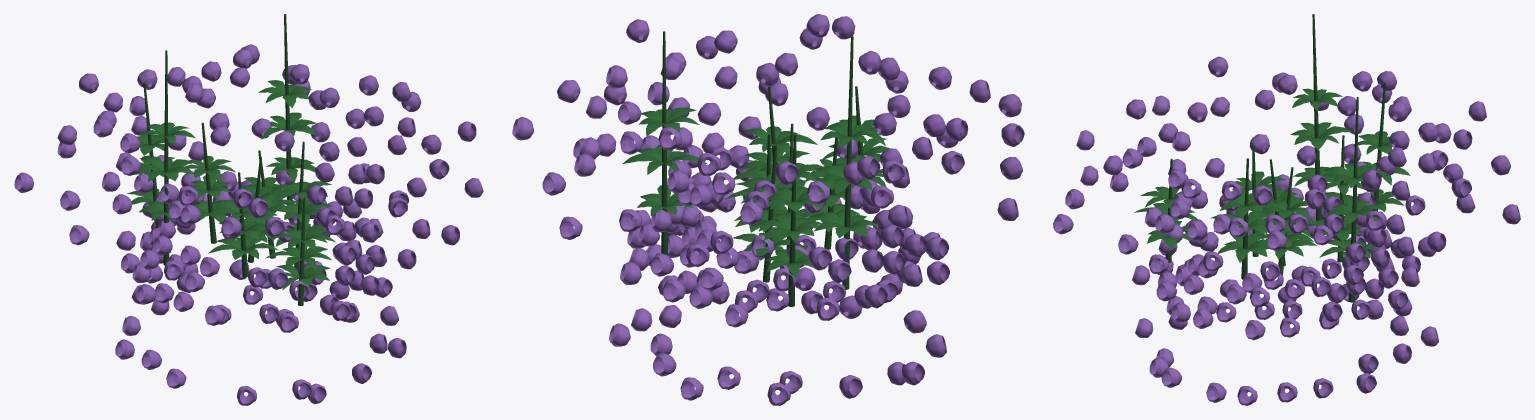
File: detail_lupine.glb
3 views of the same model, side by side, from view 1: azimuth 30°, elevation 25°; view 2: azimuth 150°, elevation 25°; view 3: azimuth 270°, elevation 25° (orthographic). The views are drawn at different scales.
Parts seen in each view (by area): view 1: LupinePalmateLeaves, Cone.003, Cone.008, Cone.005, Cone.007; view 2: LupinePalmateLeaves, Cone.003, Cone.008, Cone.002; view 3: LupinePalmateLeaves, Cone.003, Cone.008, Cone.
Part boxes in pixels (bbox=[...]): LupinePalmateLeaves: bbox=[127, 80, 336, 290]; Cone.003: bbox=[163, 50, 169, 265]; Cone.008: bbox=[284, 14, 292, 205]; Cone.005: bbox=[201, 122, 216, 243]; Cone.007: bbox=[298, 197, 305, 305]; LupinePalmateLeaves: bbox=[622, 107, 889, 277]; Cone.003: bbox=[842, 36, 853, 289]; Cone.008: bbox=[661, 31, 667, 255]; Cone.002: bbox=[788, 133, 796, 306]; LupinePalmateLeaves: bbox=[1134, 88, 1410, 262]; Cone.003: bbox=[1312, 14, 1321, 226]; Cone.008: bbox=[1349, 97, 1358, 302]; Cone: bbox=[1241, 158, 1248, 279].
Bounding box in the file's own units: 2.08 × 1.59 × 2.13.
